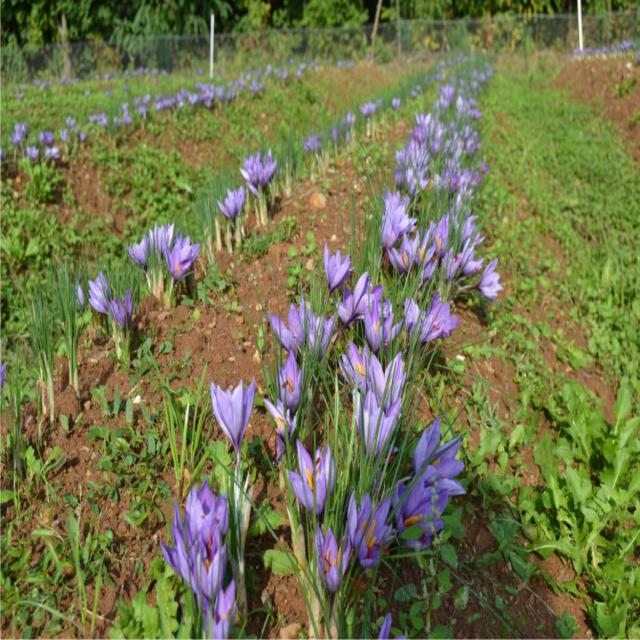saffron open: (210, 379, 255, 463), (288, 439, 335, 516), (315, 526, 351, 595), (324, 243, 352, 294), (128, 236, 150, 287), (478, 259, 502, 300)
